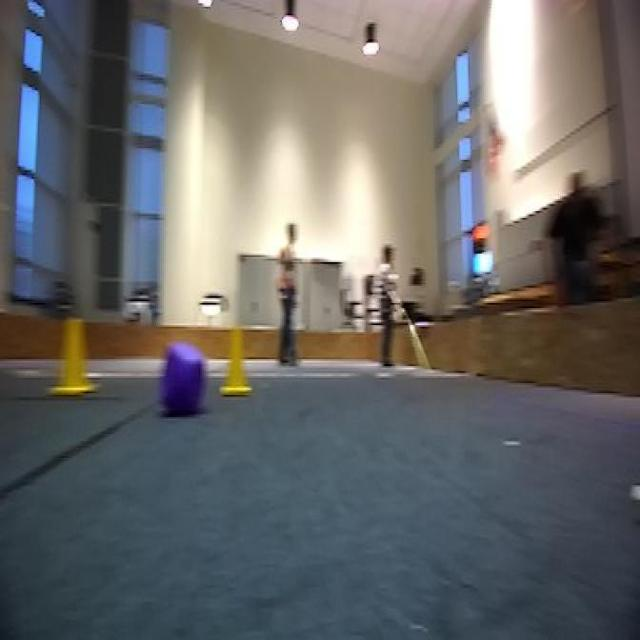frc_cone: (49, 311, 95, 395), (216, 325, 252, 395)
frc_cube: (160, 342, 208, 417)
